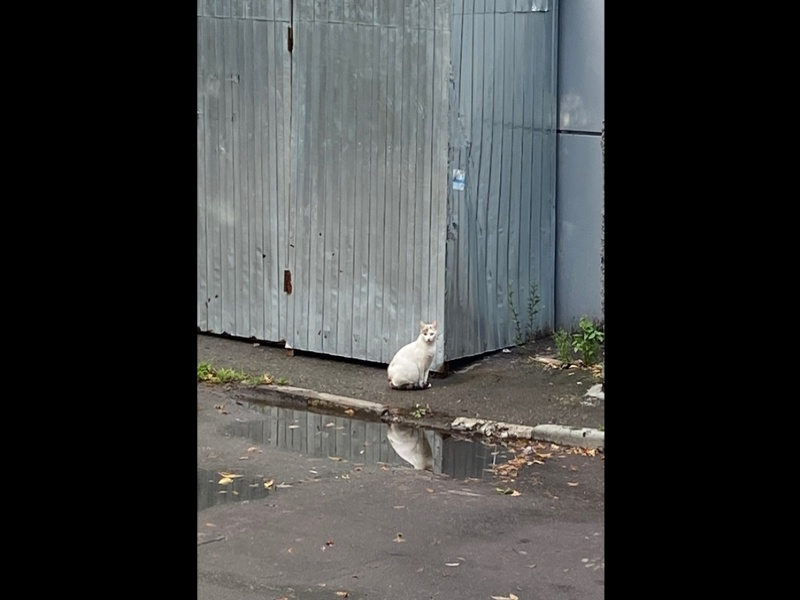cat: (383, 319, 443, 394)
